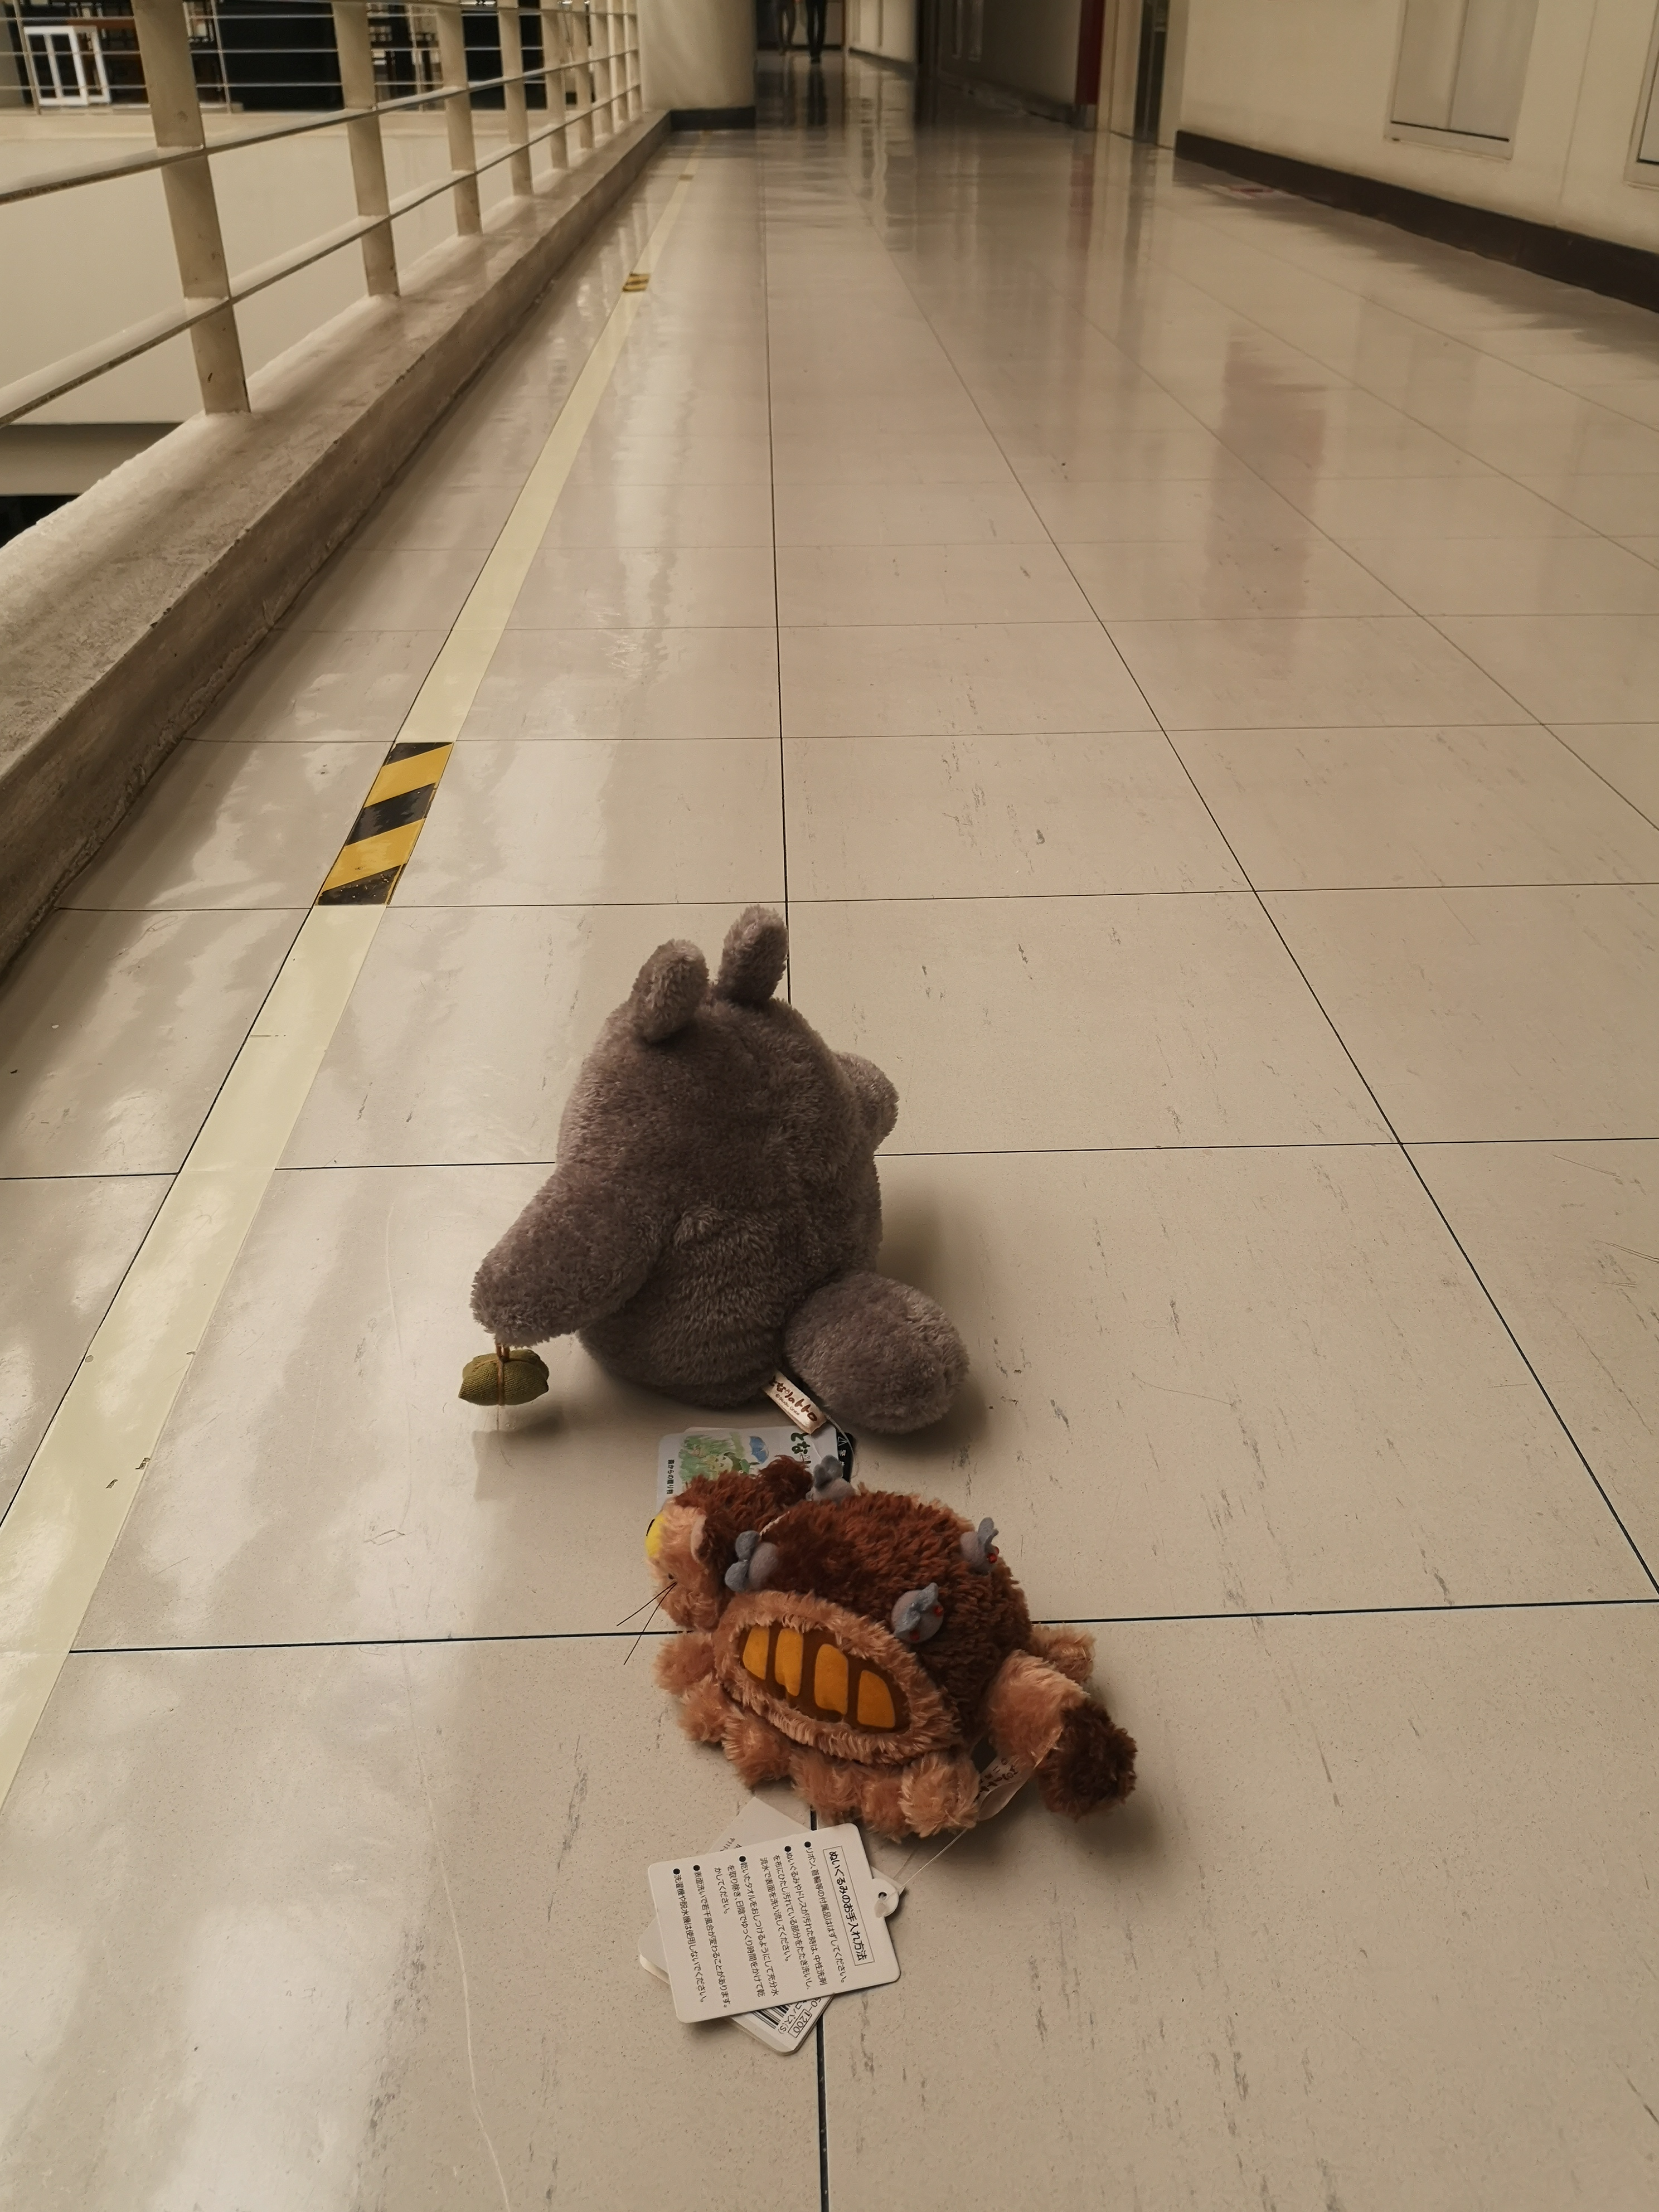nekobus: (640, 1418, 1152, 1841)
totoro: (455, 894, 976, 1461)
